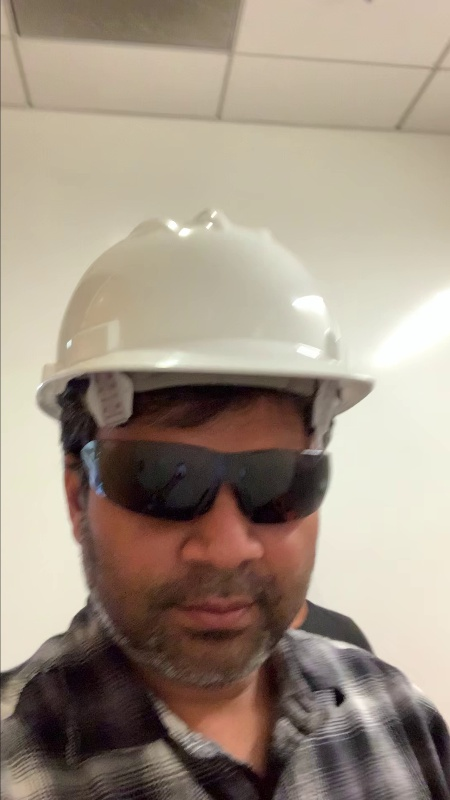glasses: (86, 431, 333, 521)
helmet: (52, 209, 360, 386)
